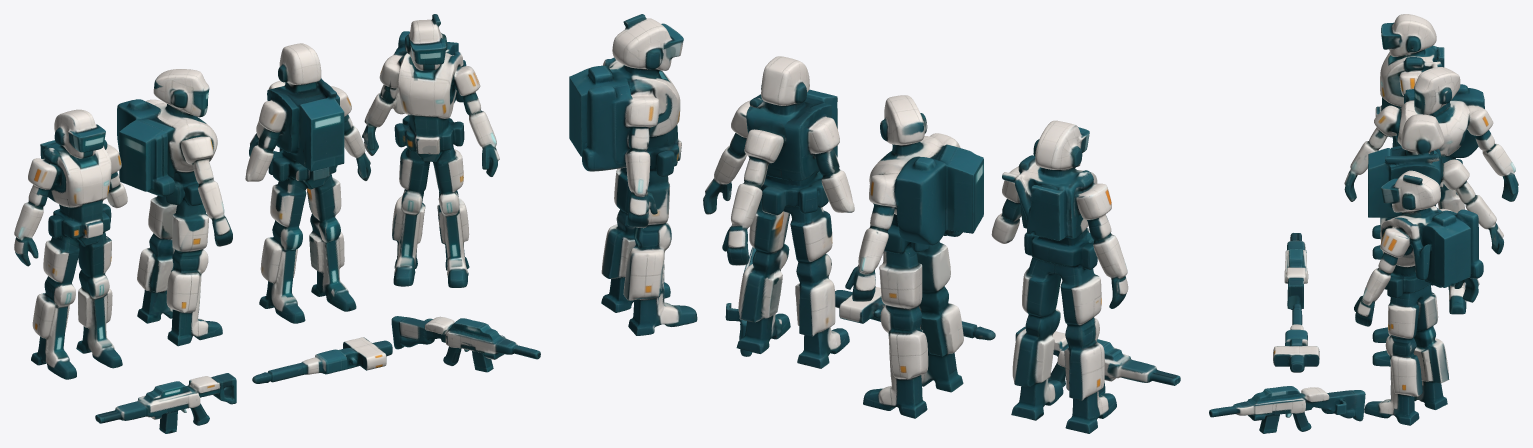
Rendered from vanguard.glb.
The picture shows the model from 3 angles, left to right: view 1: azimuth 30°, elevation 25°; view 2: azimuth 150°, elevation 25°; view 3: azimuth 270°, elevation 25°; orthographic projection. The views are drawn at different scales.
Size of the model in its own units: 1.9 by 1.16 by 1.19.
1 material, 1 textured.
